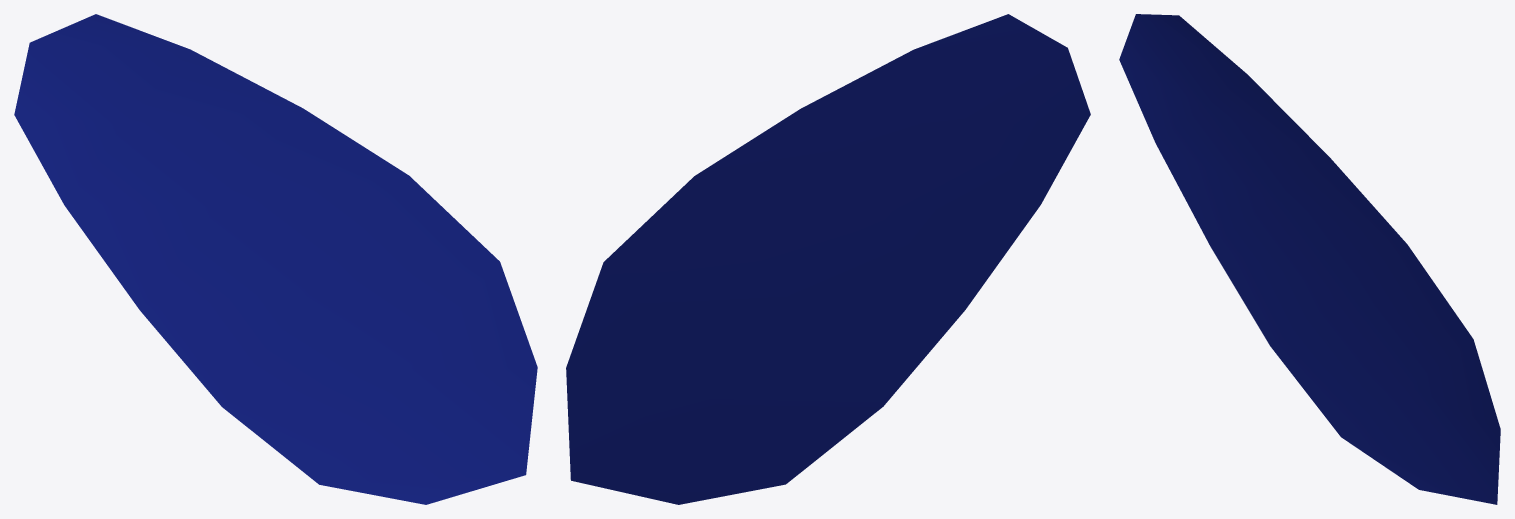
Rendered from lovebird_feather_flight_secondary_029.001.obj.
The picture shows the model from 3 angles, left to right: view 1: azimuth 30°, elevation 25°; view 2: azimuth 150°, elevation 25°; view 3: azimuth 330°, elevation 25°; orthographic projection. The views are drawn at different scales.
Visible parts, largest first — view 1: feather_flight_secondary_029.001; view 2: feather_flight_secondary_029.001; view 3: feather_flight_secondary_029.001.
Part boxes in pixels (<box>): feather_flight_secondary_029.001: <box>14,14,537,504</box>; feather_flight_secondary_029.001: <box>566,14,1090,504</box>; feather_flight_secondary_029.001: <box>1119,14,1500,504</box>.
Bounding box in the file's own units: 0.0134 × 0.0139 × 0.000178.
